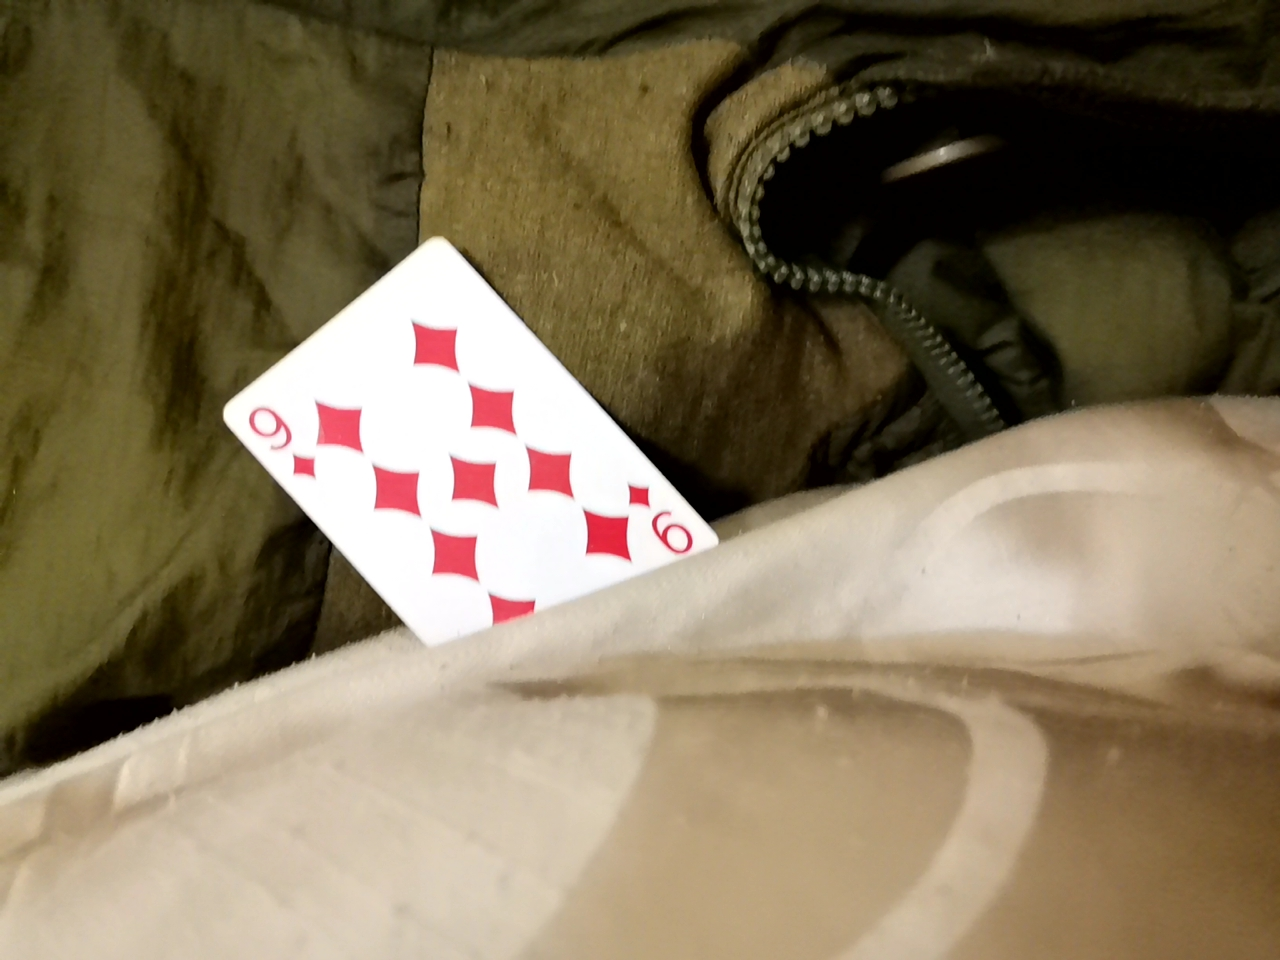fk 9: (197, 267, 684, 731)
